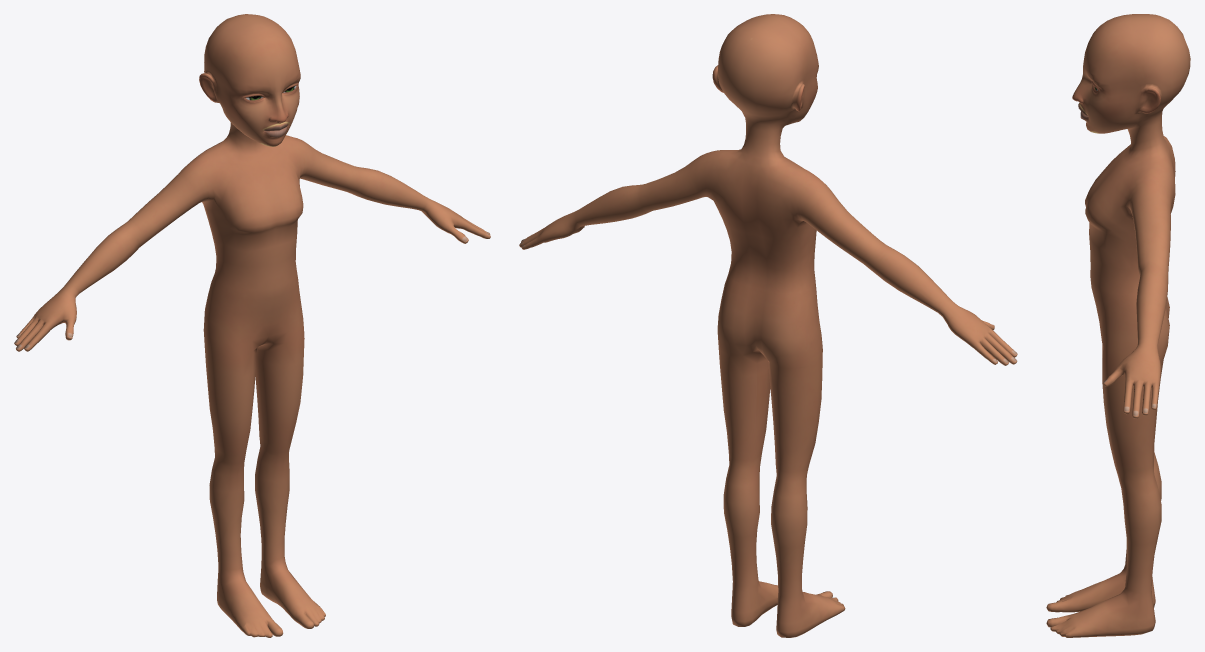
The model's file is frame_0042.glb.
3 renders of one model, left to right at view 1: azimuth 30°, elevation 25°; view 2: azimuth 150°, elevation 25°; view 3: azimuth 270°, elevation 25°, orthographic. The views are drawn at different scales.
Visible parts, largest first — view 1: frame_0042_head_geo; view 2: frame_0042_head_geo; view 3: frame_0042_head_geo.
Part boxes in pixels (<box>): frame_0042_head_geo: <box>14,14,490,637</box>; frame_0042_head_geo: <box>519,14,1017,637</box>; frame_0042_head_geo: <box>1046,14,1190,637</box>.
Size of the model in its own units: 1.28 by 1.5 by 0.3253.
3 materials, 3 textured.
